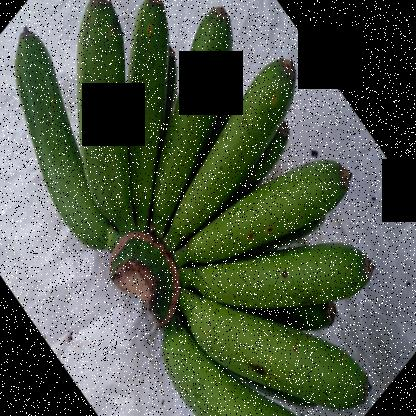unripe: (18, 8, 114, 265), (180, 296, 379, 415), (137, 167, 350, 259), (72, 1, 150, 213), (188, 247, 402, 321), (155, 342, 310, 415)
